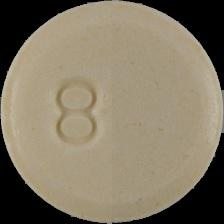13668-184: (0, 0, 224, 224)
